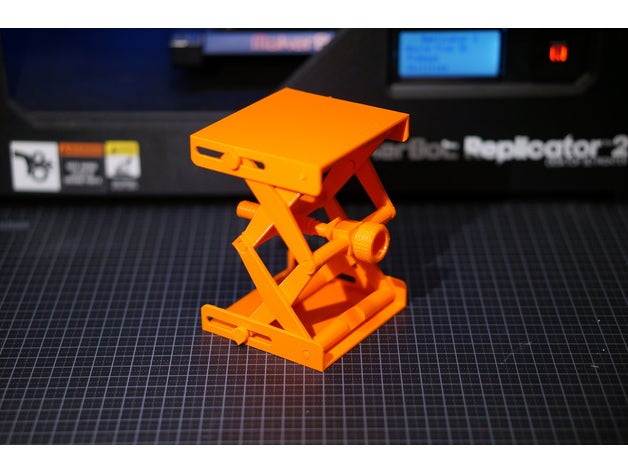Good: (163, 81, 429, 380)
